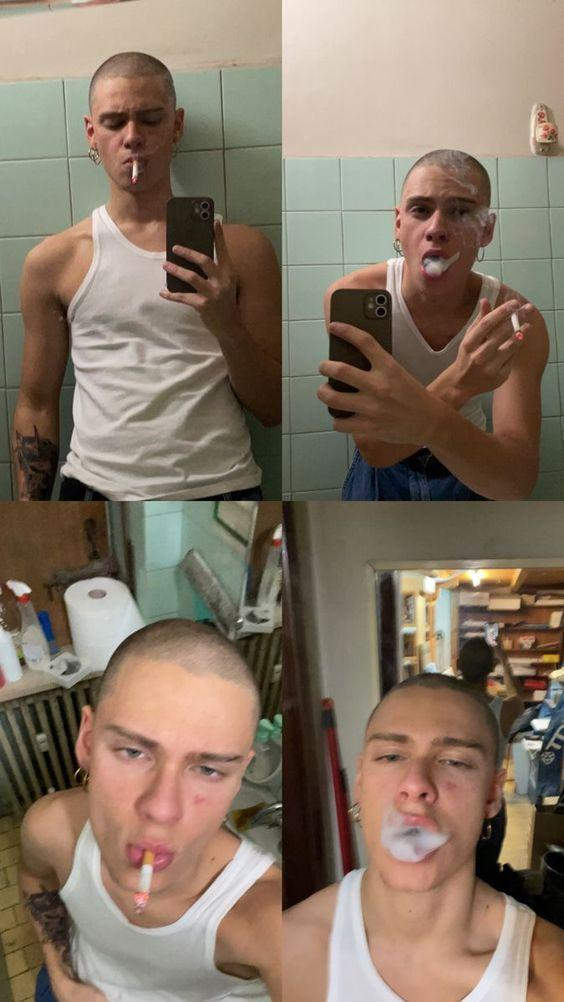cigarette: (134, 849, 156, 917), (511, 311, 524, 341), (132, 159, 139, 184)
